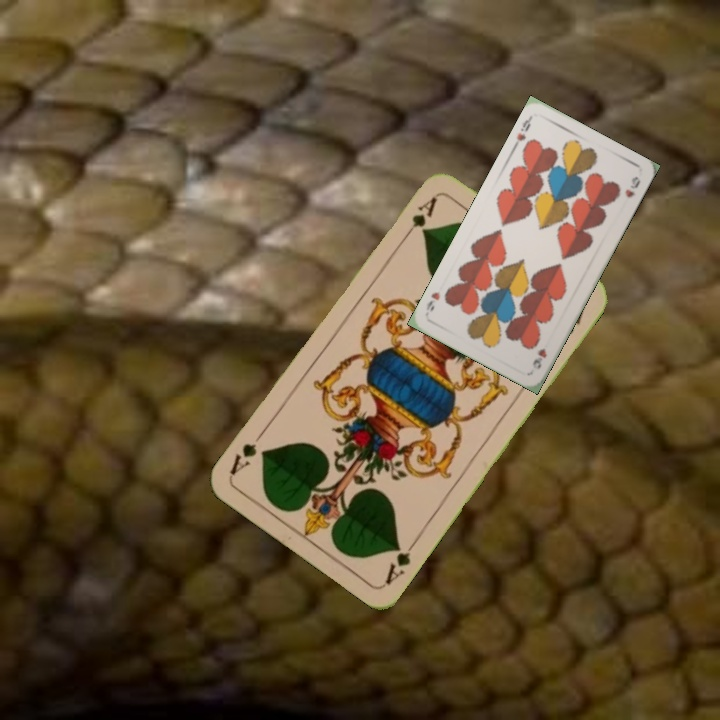GA: (381, 535, 421, 588), (399, 192, 440, 243)
H9: (510, 112, 535, 150), (528, 344, 549, 371)
